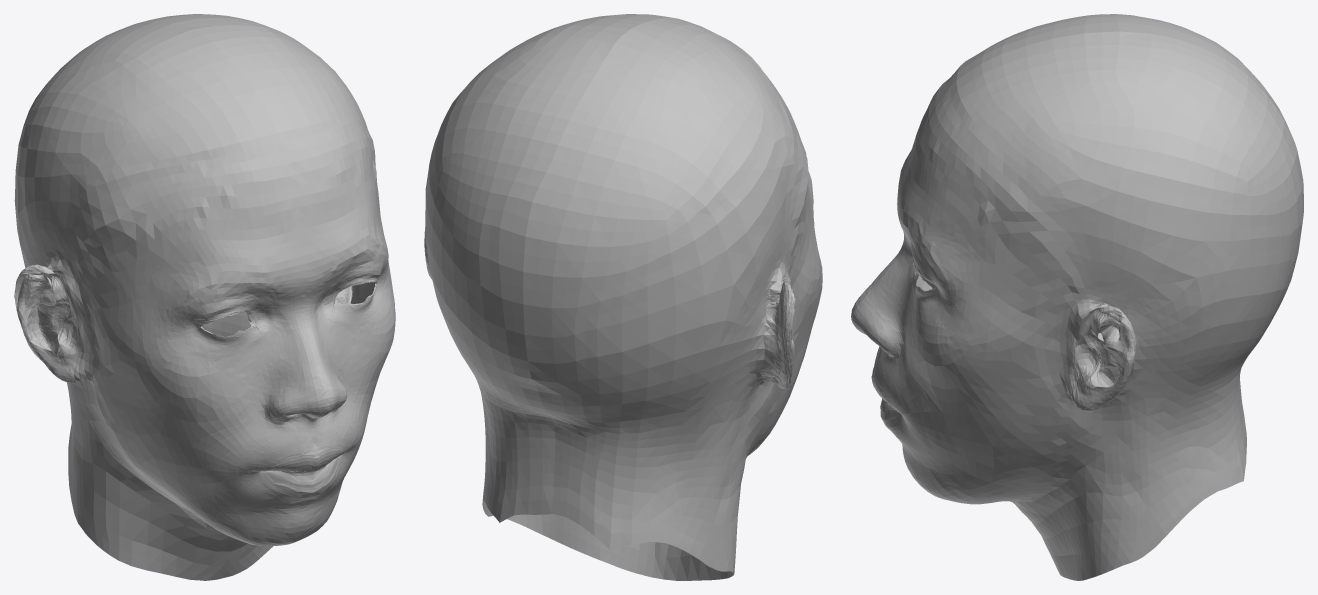
The model's file is result_flame.obj.
3 views of the same model, side by side, from view 1: azimuth 30°, elevation 25°; view 2: azimuth 150°, elevation 25°; view 3: azimuth 270°, elevation 25° (orthographic). The views are drawn at different scales.
Size of the model in its own units: 1.37 by 2 by 1.54.
Materials: 1 (1 with a texture image).
